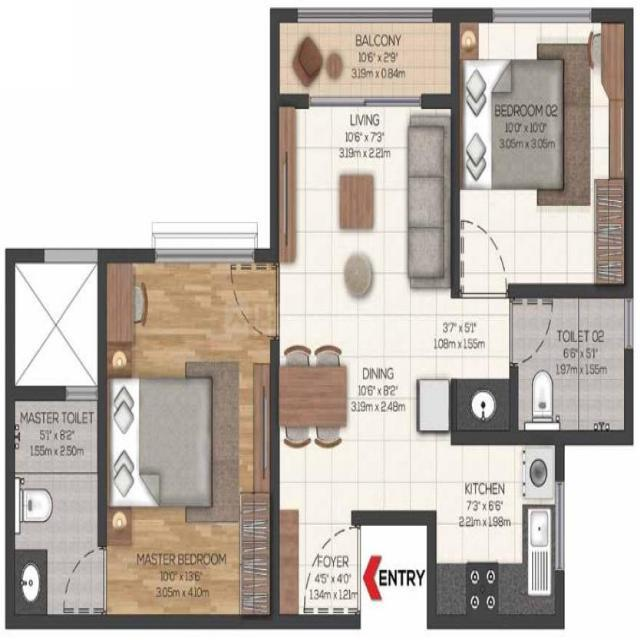Balcony-Sitout: (277, 17, 455, 99)
Bedroom: (454, 14, 631, 295)
Bedroom with Toilet: (7, 253, 274, 626)
Dining: (275, 344, 350, 451)
Enterance-Foyer: (276, 515, 362, 621)
Kitchen: (431, 434, 563, 625)
Living: (277, 101, 455, 333)
Toilet: (10, 394, 105, 622), (509, 288, 630, 441)
